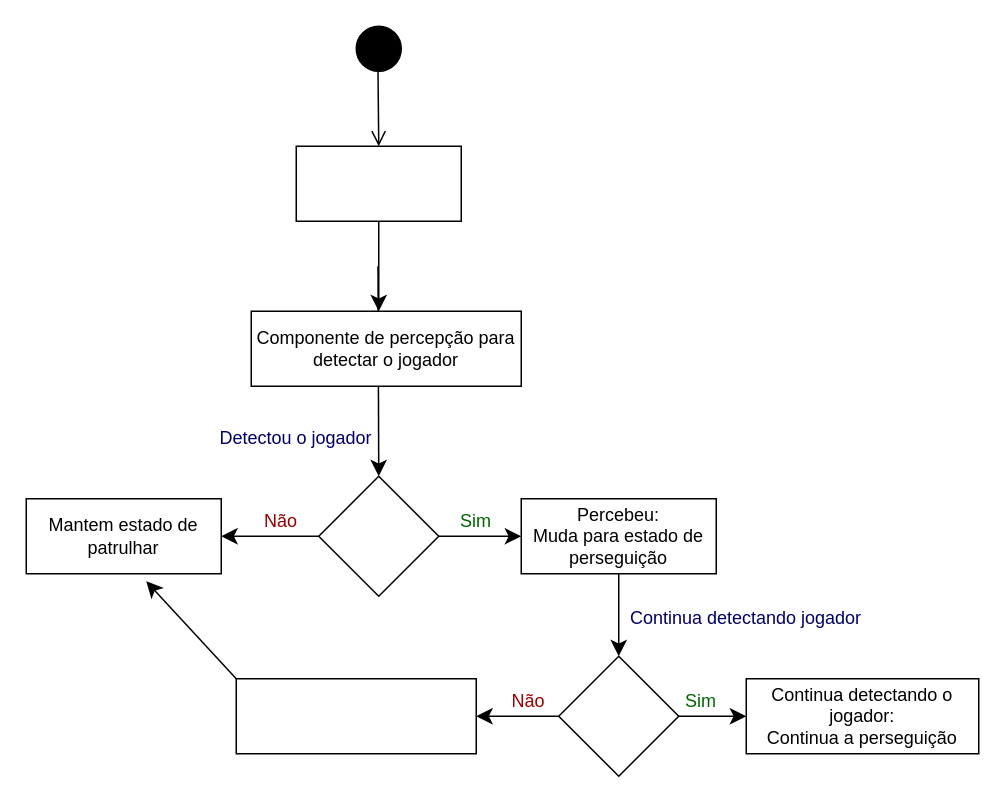
Some shapes in this 1005 by 803 pixel diagram are drawn without their labels. Here are the shapes that lost their labels. From the top down, the centre of each, then its label:
pixel 378 183: NPC inicia patrulha no ambiente
pixel 355 715: Perdeu jogador de vista
